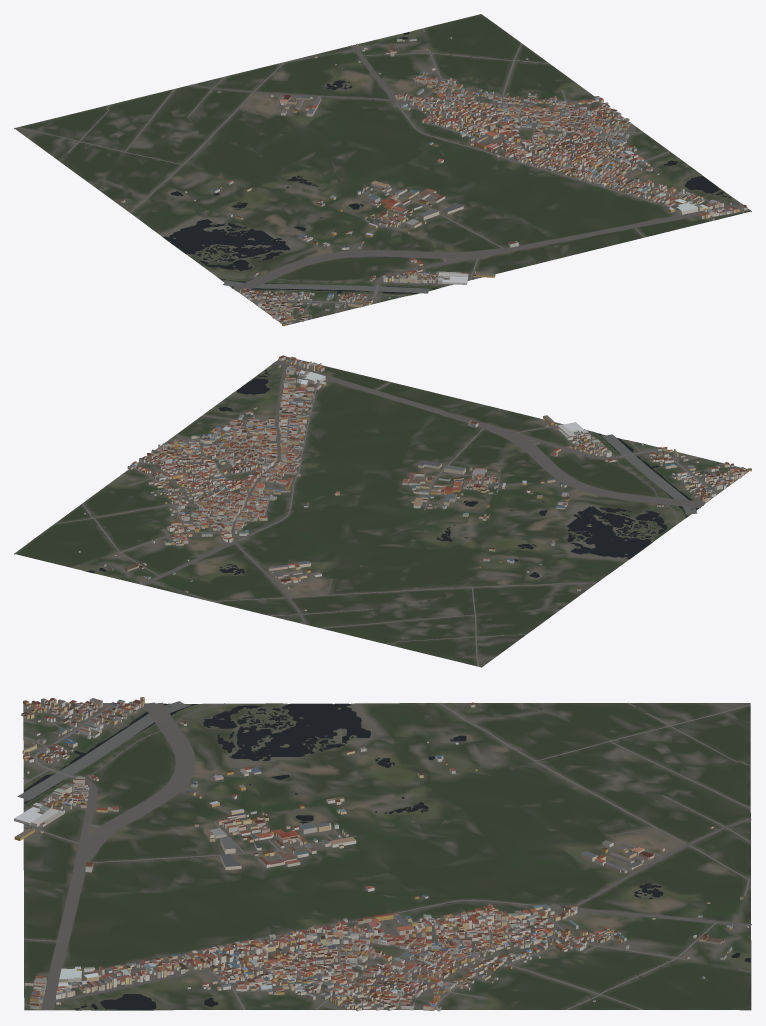
3 views of the same model, one above another, from view 1: azimuth 30°, elevation 25°; view 2: azimuth 150°, elevation 25°; view 3: azimuth 270°, elevation 25° (orthographic). The views are drawn at different scales.
Parts seen in each view (by area): view 1: ground, buildings, roads, water; view 2: ground, buildings, roads, water; view 3: ground, buildings, roads, water.
Boxes of the visible parts, x1=… form: ground: x1=14, y1=14, x2=751, y2=325; buildings: x1=120, y1=37, x2=747, y2=326; roads: x1=17, y1=28, x2=743, y2=319; water: x1=164, y1=32, x2=731, y2=294; ground: x1=14, y1=356, x2=748, y2=667; buildings: x1=79, y1=355, x2=751, y2=610; roads: x1=54, y1=359, x2=741, y2=666; water: x1=86, y1=370, x2=698, y2=577; ground: x1=23, y1=703, x2=751, y2=1010; buildings: x1=14, y1=697, x2=748, y2=1011; roads: x1=23, y1=702, x2=751, y2=1010; water: x1=17, y1=701, x2=750, y2=1009.
Size of the model in its own units: 1418 by 26.58 by 1423.
